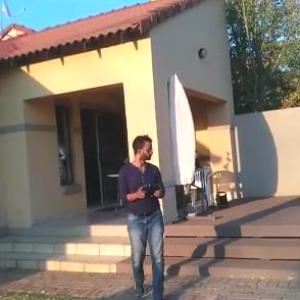follow: (115, 130, 172, 297)
